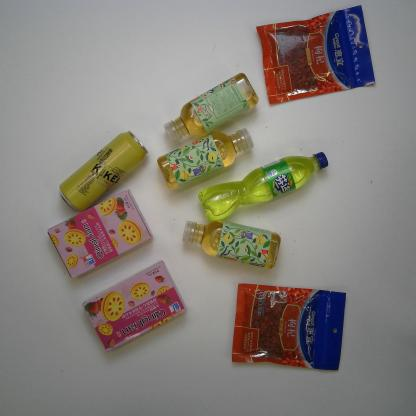Alcohol: (55, 126, 149, 216)
Dessert: (77, 254, 189, 356), (42, 184, 156, 282)
Dried Fruit: (254, 2, 378, 106), (228, 279, 348, 374)
Drink: (196, 146, 332, 226), (160, 69, 262, 148), (154, 124, 256, 194), (178, 216, 284, 273)
